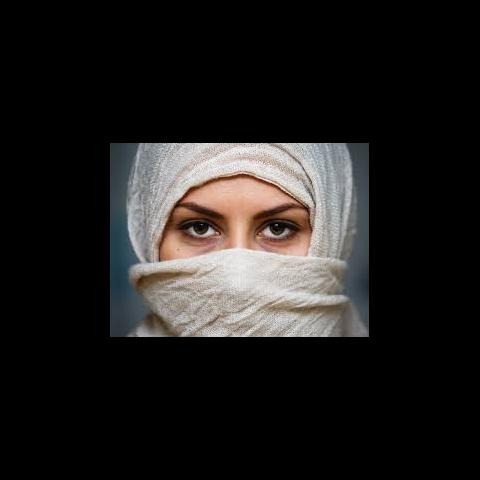opened: (169, 195, 311, 250)
